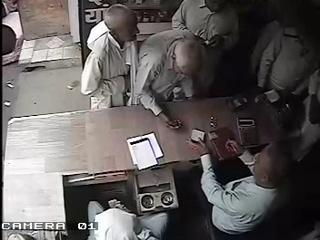Normal: (186, 131, 294, 238), (132, 29, 208, 130), (170, 0, 248, 98)
shoplifting: (80, 3, 140, 110)
